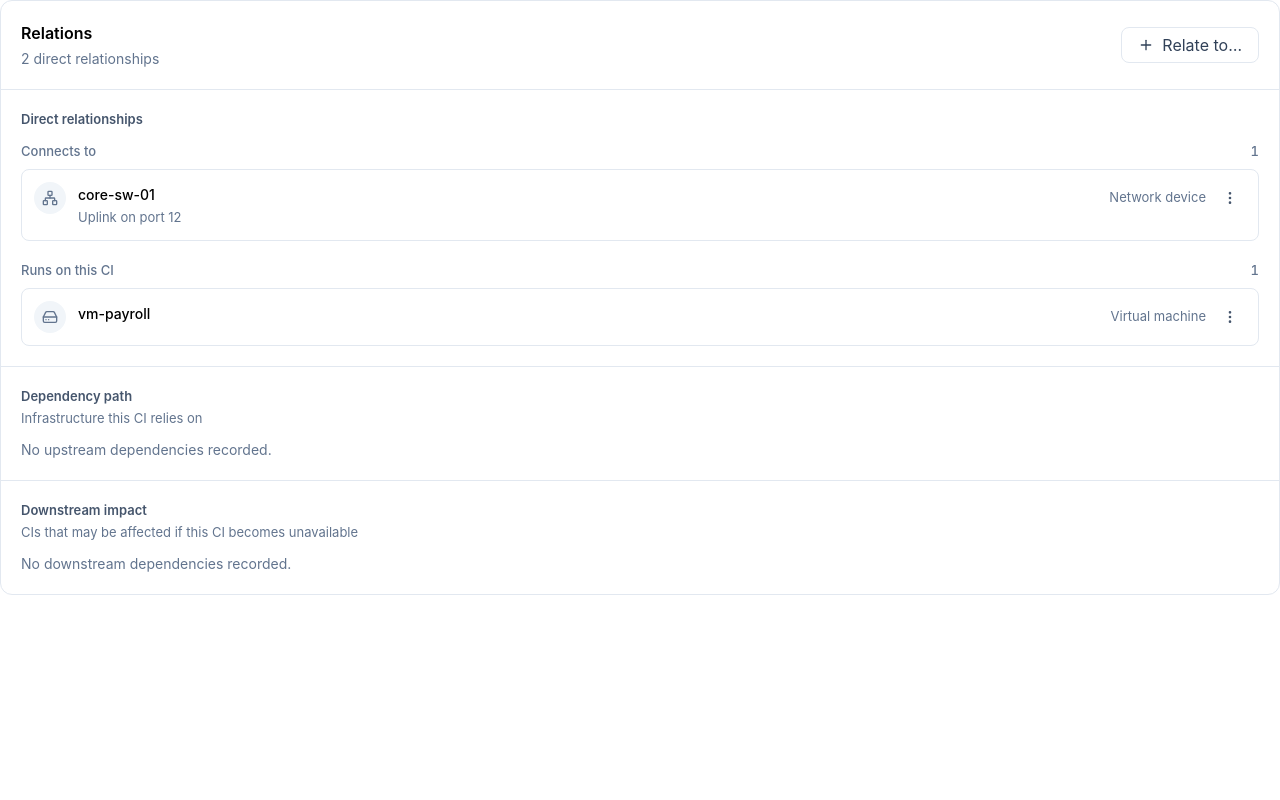
Test: CiRelationsGraph write surface › shows a duplicate 409 against the chosen CI
The image size is (1280, 800).
Step 1. Click the button "Relate to…" → (1190, 45), box [1121,27,1259,63]
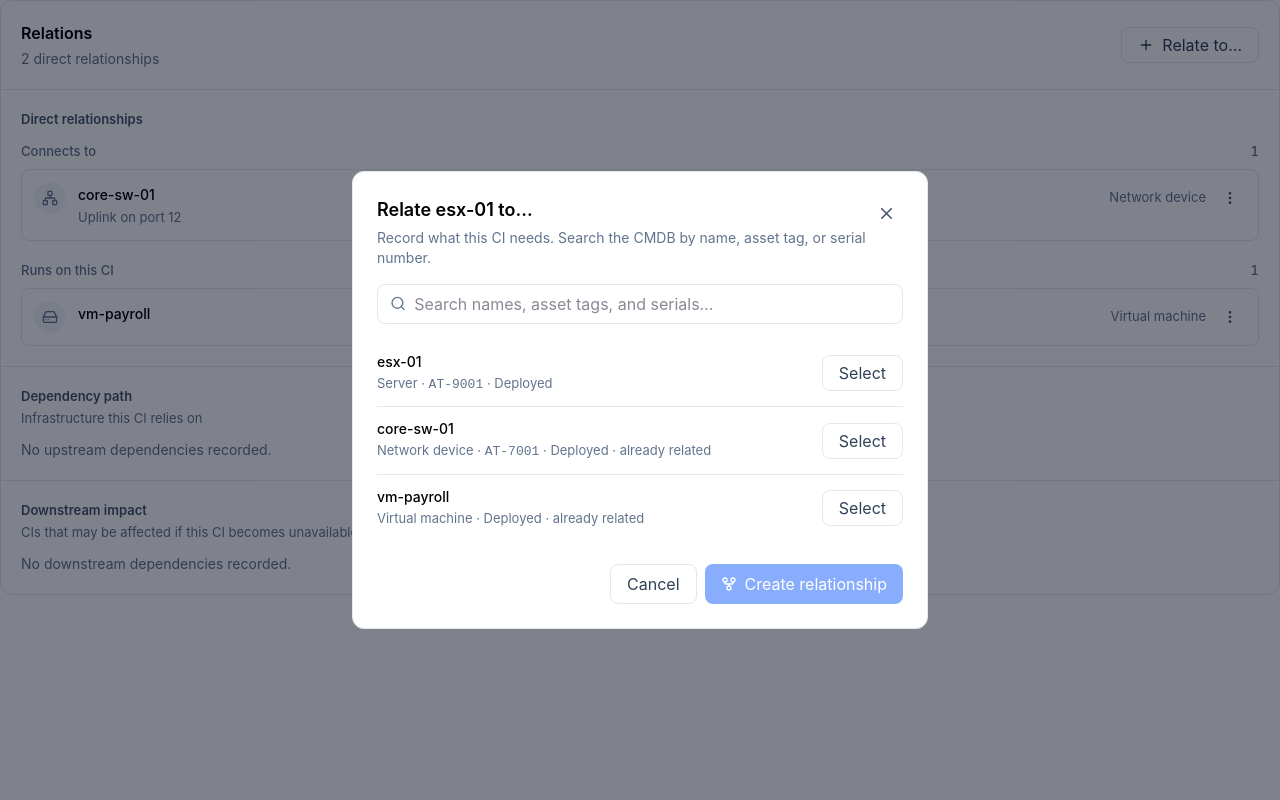
Step 2. Click the button "Select" in the row of "AT-7001" → (862, 440), box [822,422,903,458]
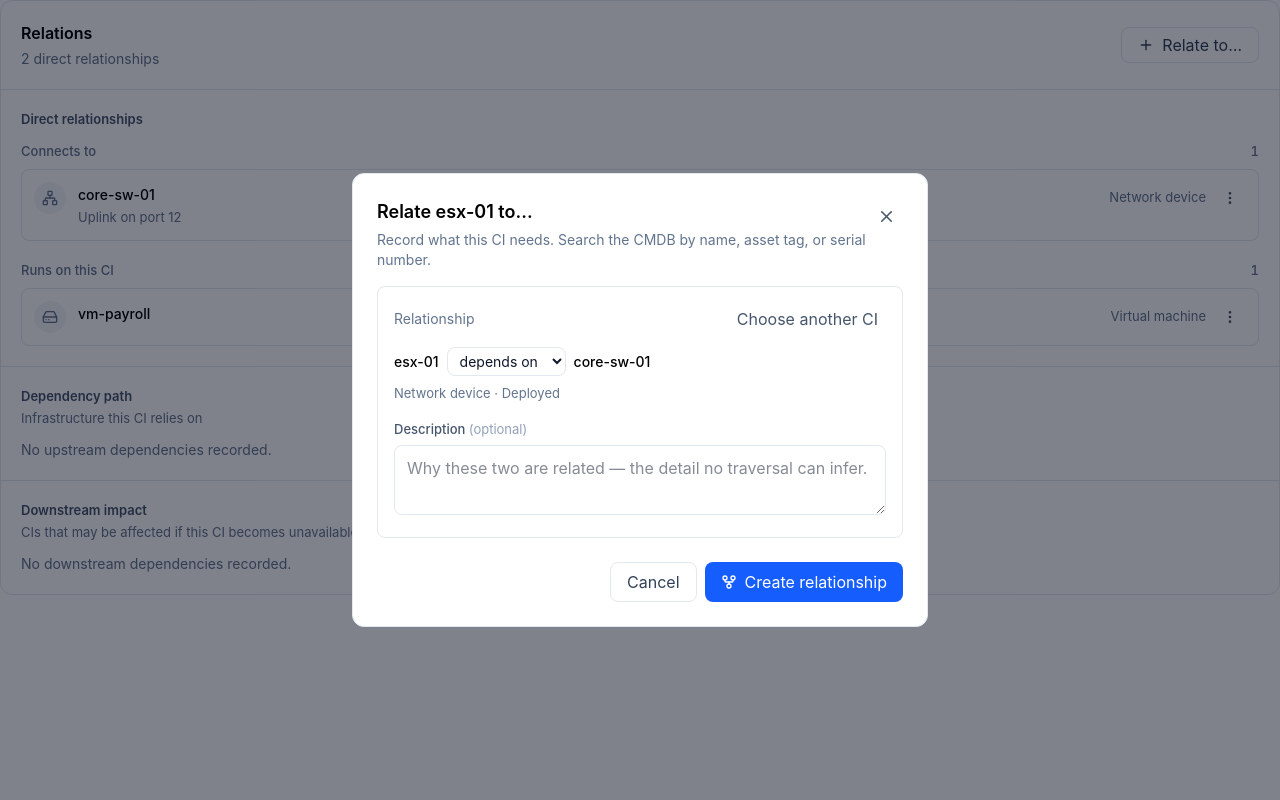
Step 3. Click the button "Create relationship" → (804, 582), box [704,562,903,602]
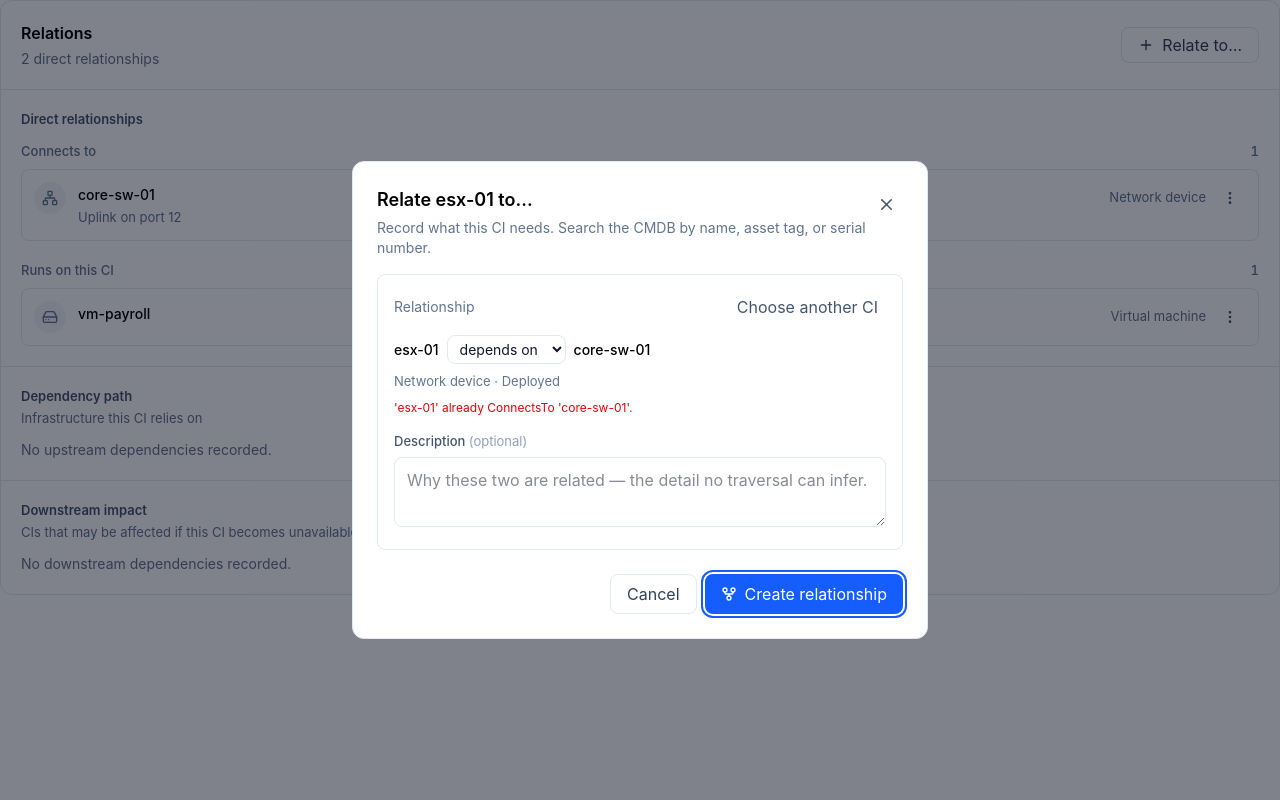
Now the message shows "already ConnectsTo 'core-sw-01'", box [394,400,632,414]
